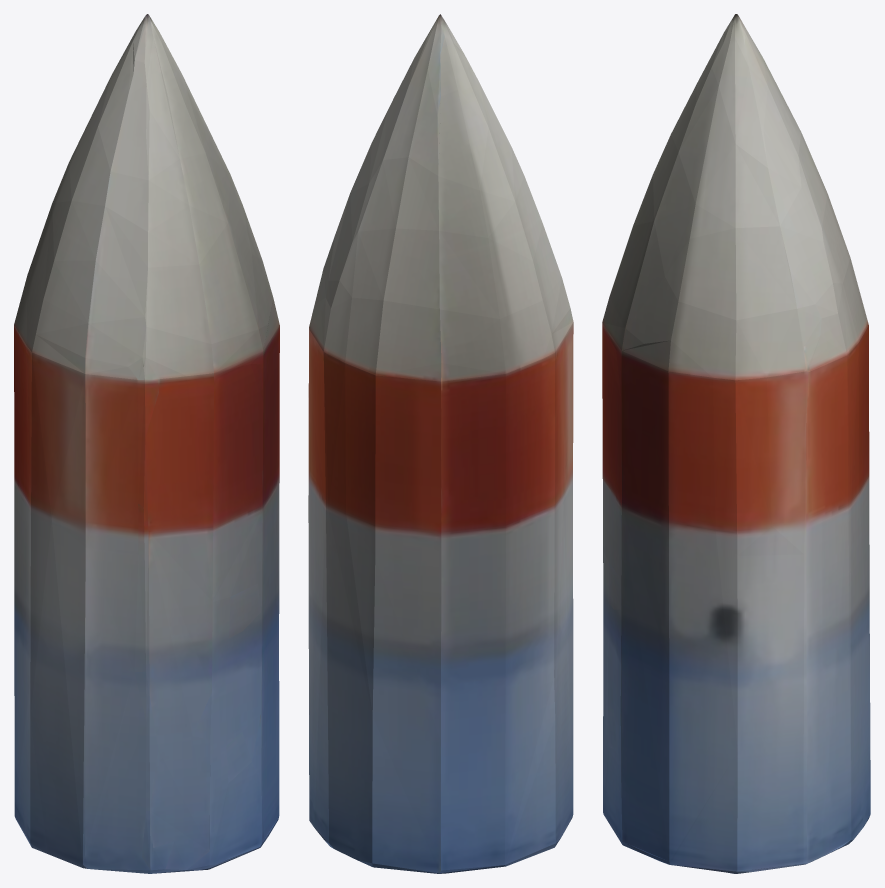
File: missile-ai.glb
The picture shows the model from 3 angles, left to right: view 1: azimuth 30°, elevation 25°; view 2: azimuth 150°, elevation 25°; view 3: azimuth 270°, elevation 25°; orthographic projection.
Parts seen in each view (by area): view 1: geometry_0; view 2: geometry_0; view 3: geometry_0.
Part boxes in pixels (x1,y1,x2,y2): geometry_0: [14, 14, 279, 873]; geometry_0: [308, 14, 573, 873]; geometry_0: [602, 14, 870, 873].
Bounding box in the file's own units: 0.3004 × 0.999 × 0.3018.
1 material, 1 textured.
